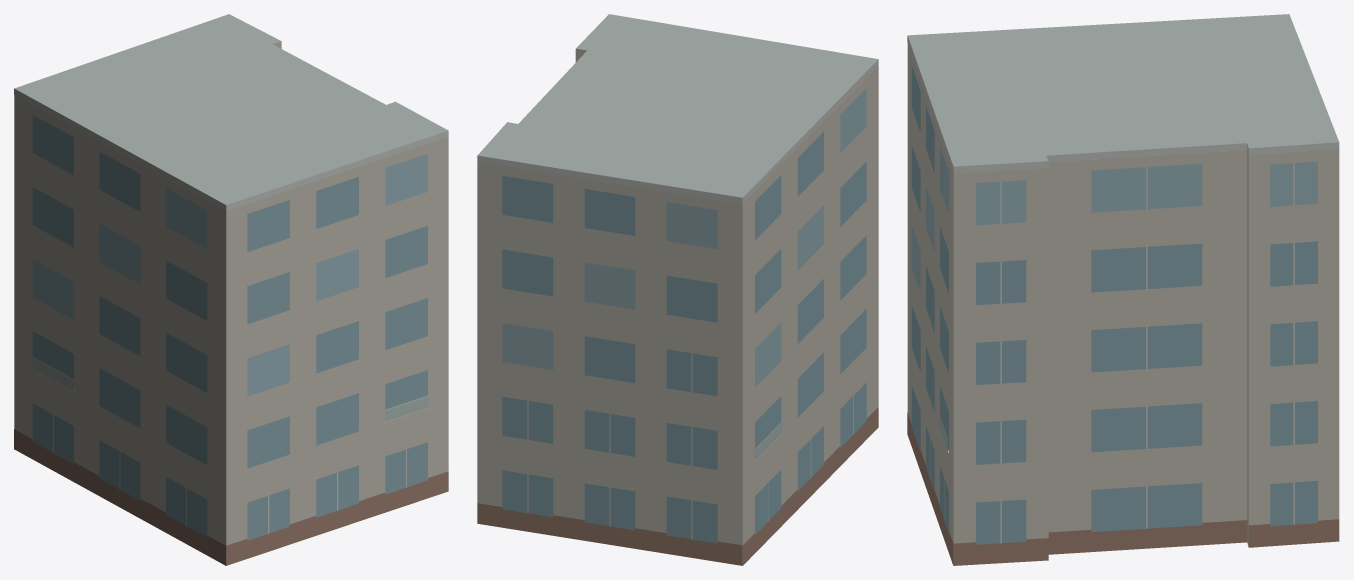
File: survey-upis-33024131.glb
The picture shows the model from 3 angles, left to right: view 1: azimuth 30°, elevation 25°; view 2: azimuth 150°, elevation 25°; view 3: azimuth 270°, elevation 25°; orthographic projection. The views are drawn at different scales.
Visible parts, largest first — view 1: survey-upis-33024131.tmp; view 2: survey-upis-33024131.tmp; view 3: survey-upis-33024131.tmp.
Boxes of the visible parts, left/top/right/bottom form: survey-upis-33024131.tmp: left=14, top=14, right=448, bottom=565; survey-upis-33024131.tmp: left=477, top=14, right=878, bottom=565; survey-upis-33024131.tmp: left=907, top=14, right=1339, bottom=565.
Bounding box in the file's own units: 11.49 × 14 × 13.73.
